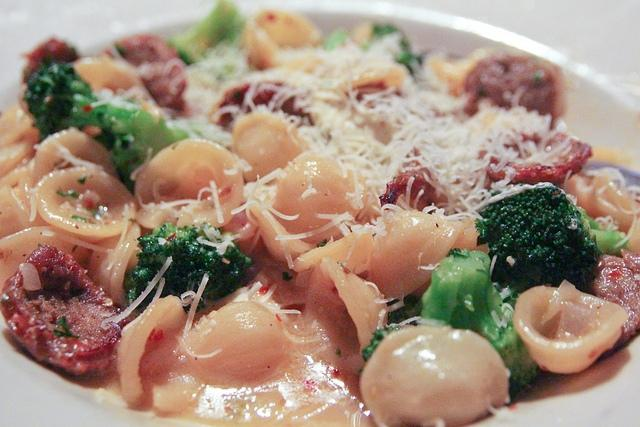broccoli: (361, 246, 545, 402), (476, 186, 603, 300), (123, 222, 253, 314), (94, 110, 189, 196), (24, 60, 114, 150), (165, 0, 246, 66), (371, 24, 421, 74)
